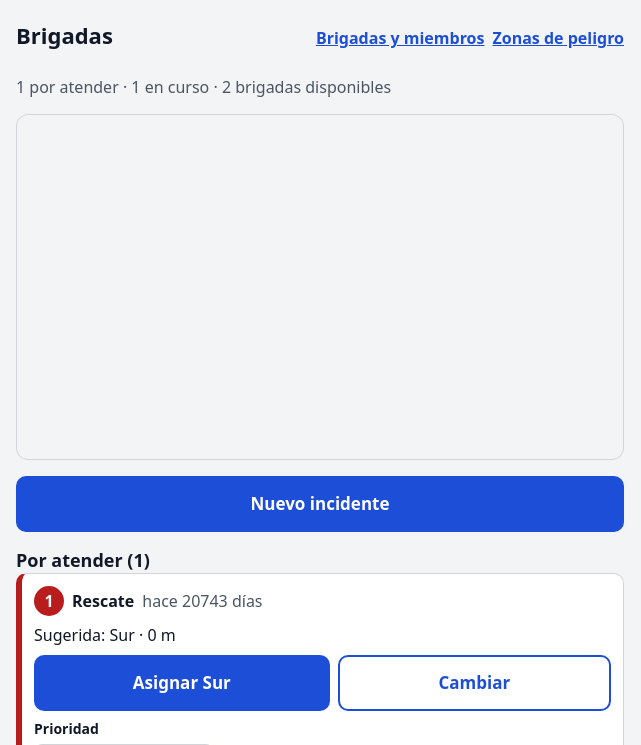
PanelBrigadas › si otro coordinador ganó la brigada, lo dice y recarga
Click the button "Asignar Sur".
click(182, 683)  # box [34,655,330,711]
(page scrolled)
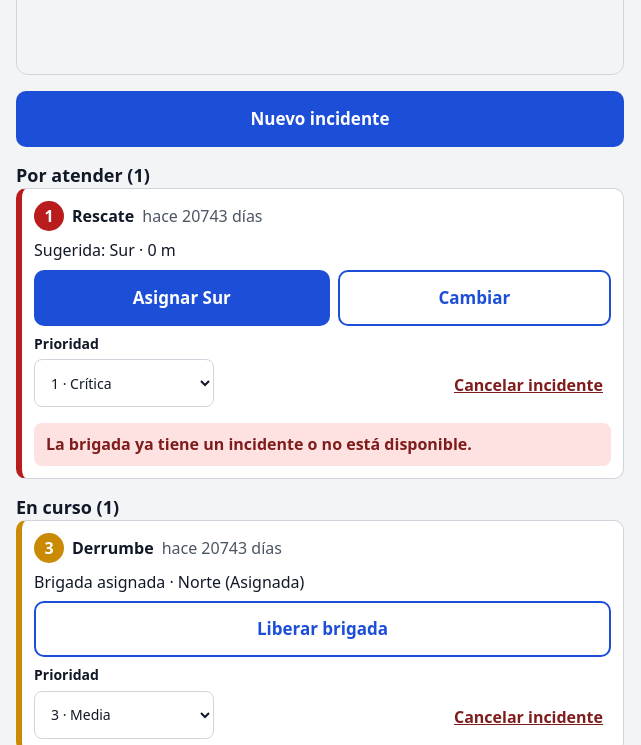
Check: the message shows "La brigada ya tiene un incidente", box [46,433,472,455]
